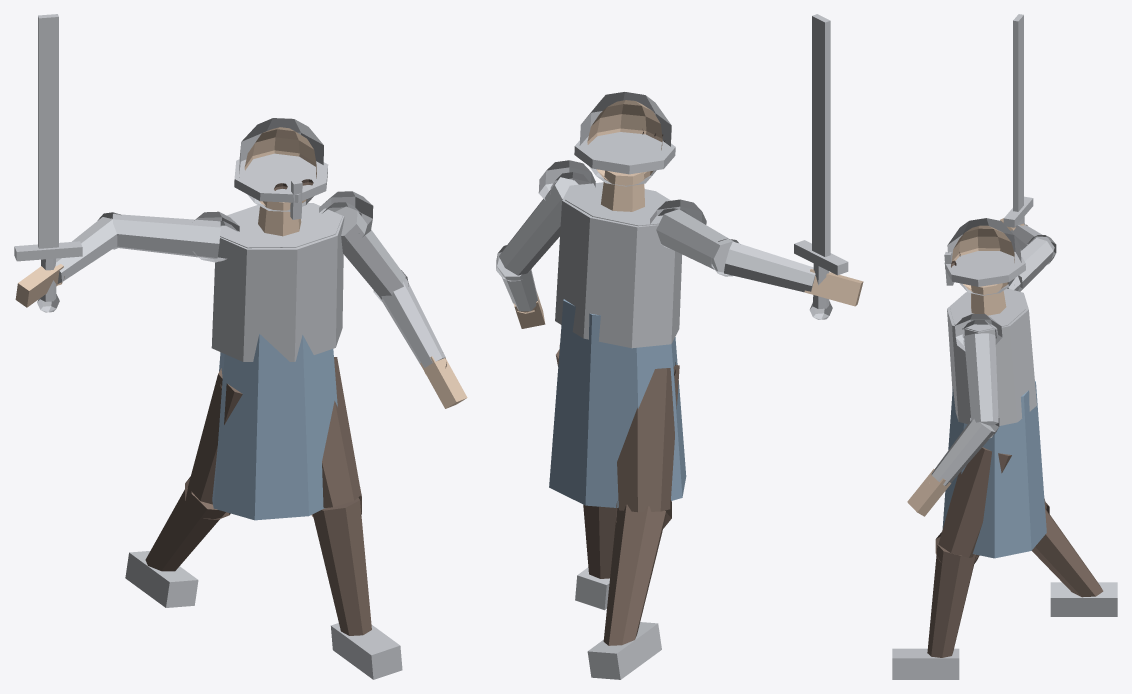
The model's file is low-poly-character-figures-knight-sword-raised-5e8b7e11.glb.
The picture shows the model from 3 angles, left to right: view 1: azimuth 30°, elevation 25°; view 2: azimuth 150°, elevation 25°; view 3: azimuth 270°, elevation 25°; orthographic projection. The views are drawn at different scales.
Parts seen in each view (by area): view 1: knight-sword-raised; view 2: knight-sword-raised; view 3: knight-sword-raised.
Part boxes in pixels (bbox=[...]): knight-sword-raised: bbox=[14, 14, 467, 679]; knight-sword-raised: bbox=[496, 14, 863, 679]; knight-sword-raised: bbox=[892, 14, 1117, 679].
Size of the model in its own units: 1.44 by 2.34 by 0.8653.
